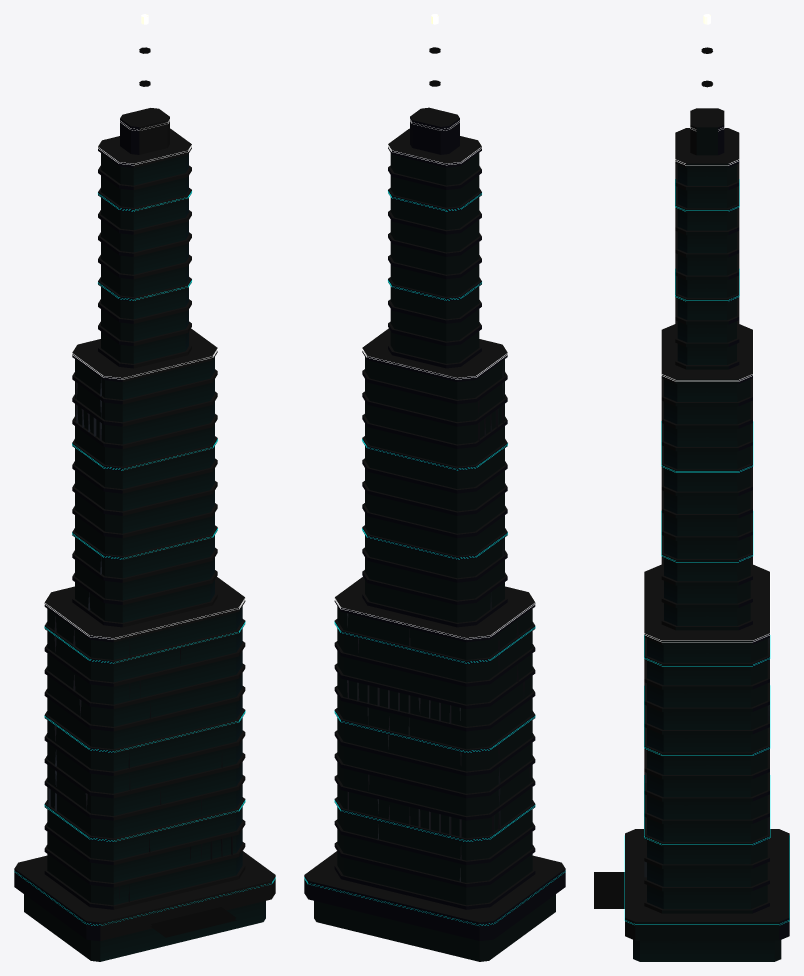
File: sc-tower-setback-lod2.glb
3 renders of one model, left to right at view 1: azimuth 30°, elevation 25°; view 2: azimuth 150°, elevation 25°; view 3: azimuth 270°, elevation 25°, orthographic.
Parts seen in each view (by area): view 1: shaddai_tower_setback_terraces.001; view 2: shaddai_tower_setback_terraces.001; view 3: shaddai_tower_setback_terraces.001.
Part boxes in pixels (<box>): shaddai_tower_setback_terraces.001: <box>14,14,275,961</box>; shaddai_tower_setback_terraces.001: <box>304,14,565,961</box>; shaddai_tower_setback_terraces.001: <box>594,14,789,961</box>.
Bounding box in the file's own units: 32.07 × 145 × 28.55.
